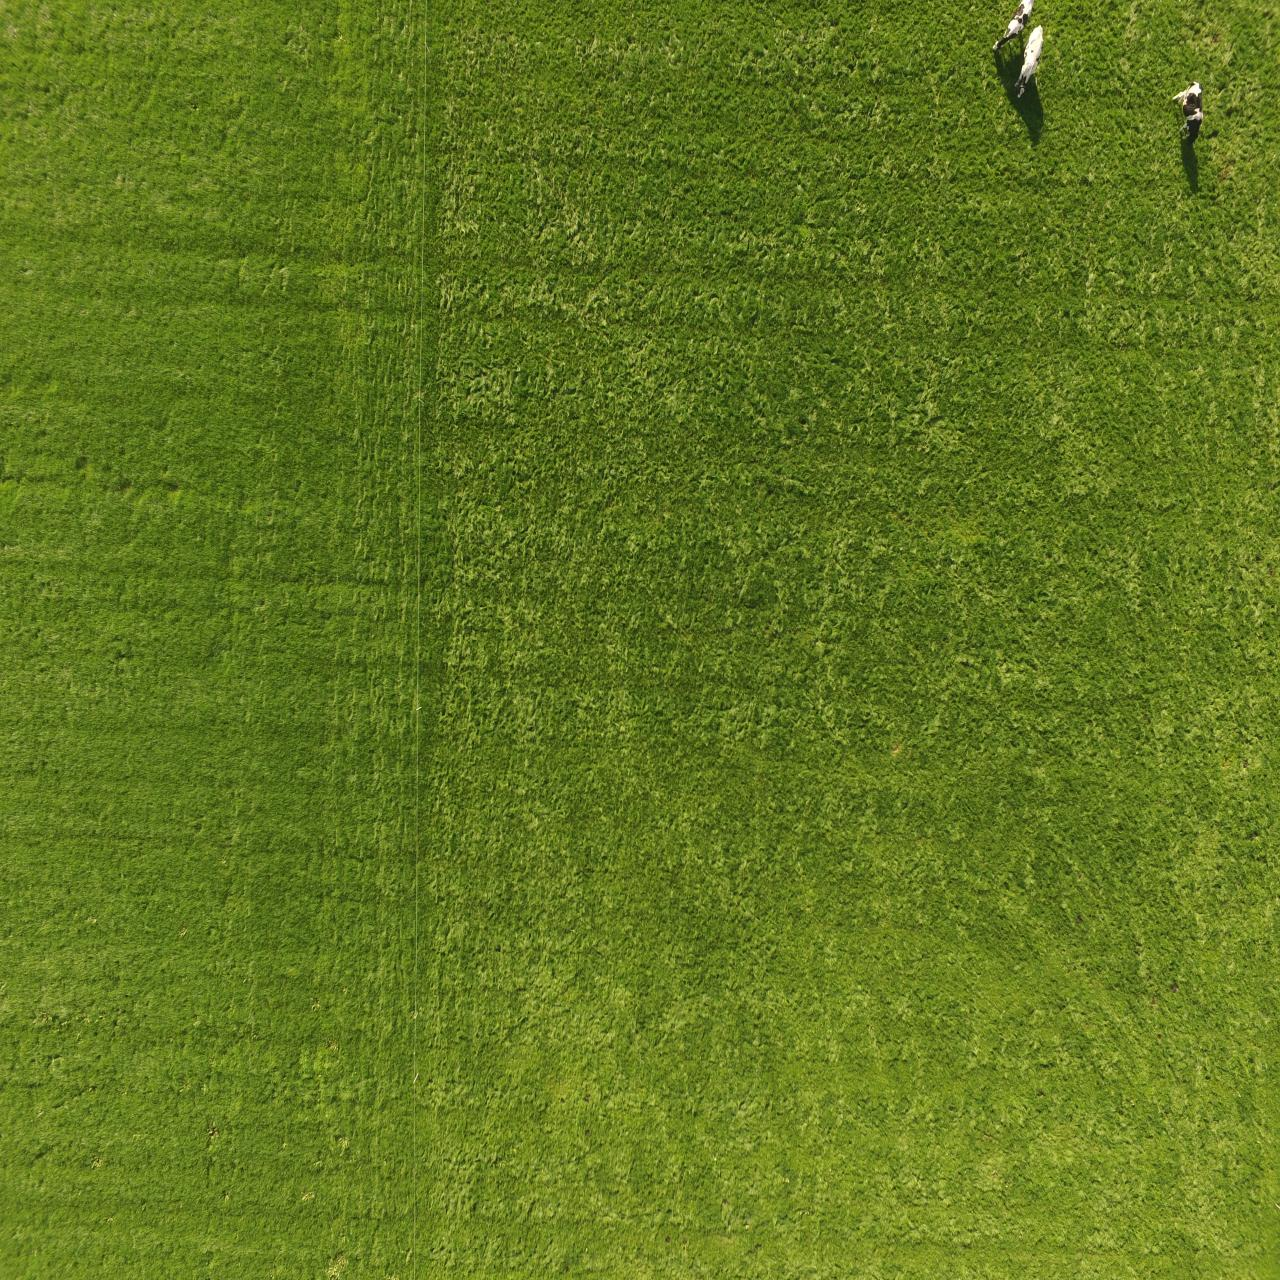cow: (1163, 69, 1214, 155), (1007, 26, 1055, 98), (987, 0, 1046, 57)
